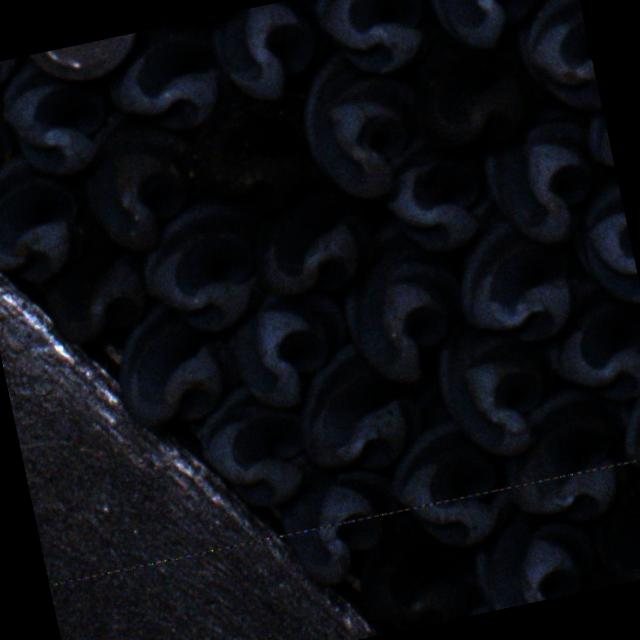tool_b: (328, 208, 481, 394), (288, 38, 436, 210), (438, 186, 582, 358), (286, 332, 433, 482), (471, 96, 609, 255), (128, 192, 272, 342), (105, 287, 248, 434), (73, 111, 214, 258), (180, 82, 324, 224), (398, 15, 539, 158), (426, 310, 556, 464), (216, 278, 359, 412), (186, 377, 316, 518), (95, 18, 234, 144), (244, 178, 381, 304), (0, 45, 120, 185), (346, 520, 486, 637), (532, 265, 640, 415), (492, 380, 640, 487), (465, 500, 602, 610), (373, 136, 492, 262), (38, 226, 158, 348), (204, 0, 335, 107), (0, 145, 92, 291), (379, 412, 505, 511), (502, 0, 601, 119), (562, 167, 640, 312), (309, 0, 434, 83), (268, 458, 399, 536), (285, 513, 411, 594), (510, 464, 638, 536), (24, 28, 163, 90), (423, 0, 560, 56), (581, 458, 640, 585), (578, 92, 618, 190), (609, 368, 640, 462), (0, 69, 19, 193), (0, 55, 31, 96)
